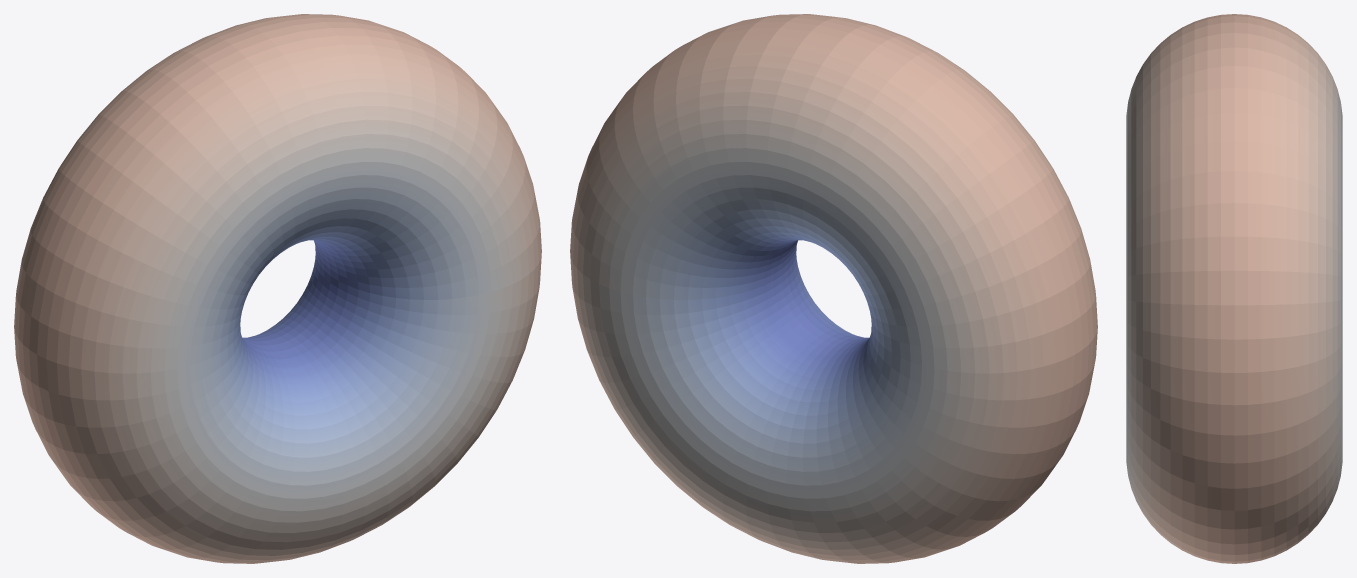
The picture shows the model from 3 angles, left to right: view 1: azimuth 30°, elevation 25°; view 2: azimuth 150°, elevation 25°; view 3: azimuth 270°, elevation 25°; orthographic projection. The views are drawn at different scales.
Visible parts, largest first — view 1: world; view 2: world; view 3: world.
Boxes of the visible parts, x1=… form: world: x1=14, y1=14, x2=541, y2=563; world: x1=570, y1=14, x2=1097, y2=563; world: x1=1126, y1=14, x2=1342, y2=563.
Bounding box in the file's own units: 22 × 21.96 × 8.65.
